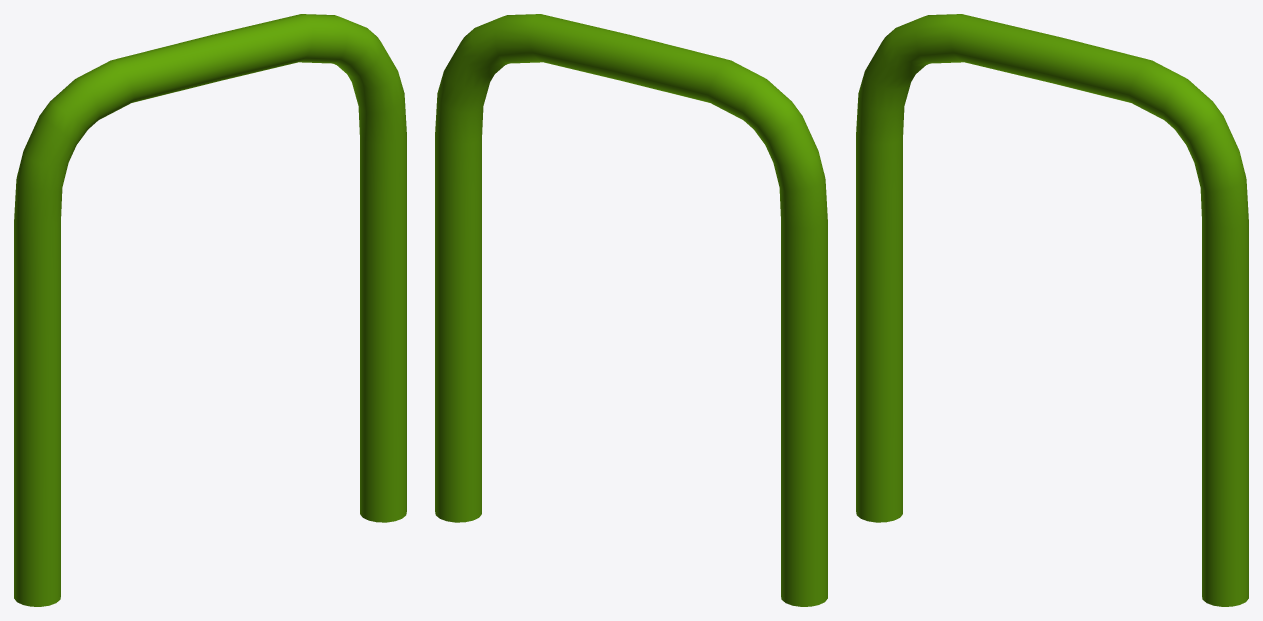
The model's file is Green Door 2.fbx.
3 views of the same model, side by side, from view 1: azimuth 30°, elevation 25°; view 2: azimuth 150°, elevation 25°; view 3: azimuth 330°, elevation 25° (orthographic).
Parts seen in each view (by area): view 1: door_pay_raise_v2; view 2: door_pay_raise_v2; view 3: door_pay_raise_v2.
Boxes of the visible parts, left/top/right/bottom form: door_pay_raise_v2: left=14, top=14, right=406, bottom=606; door_pay_raise_v2: left=435, top=14, right=827, bottom=606; door_pay_raise_v2: left=856, top=14, right=1248, bottom=606.
Size of the model in its own units: 269 by 343 by 28.25.
